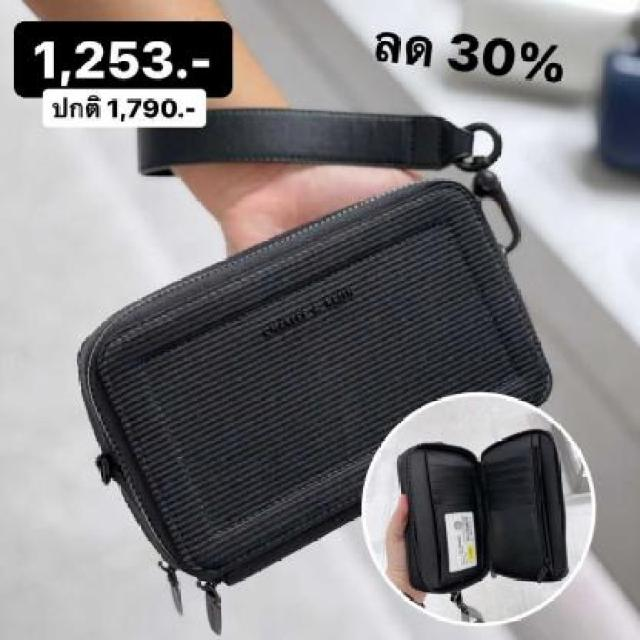Bag: (62, 66, 586, 616)
